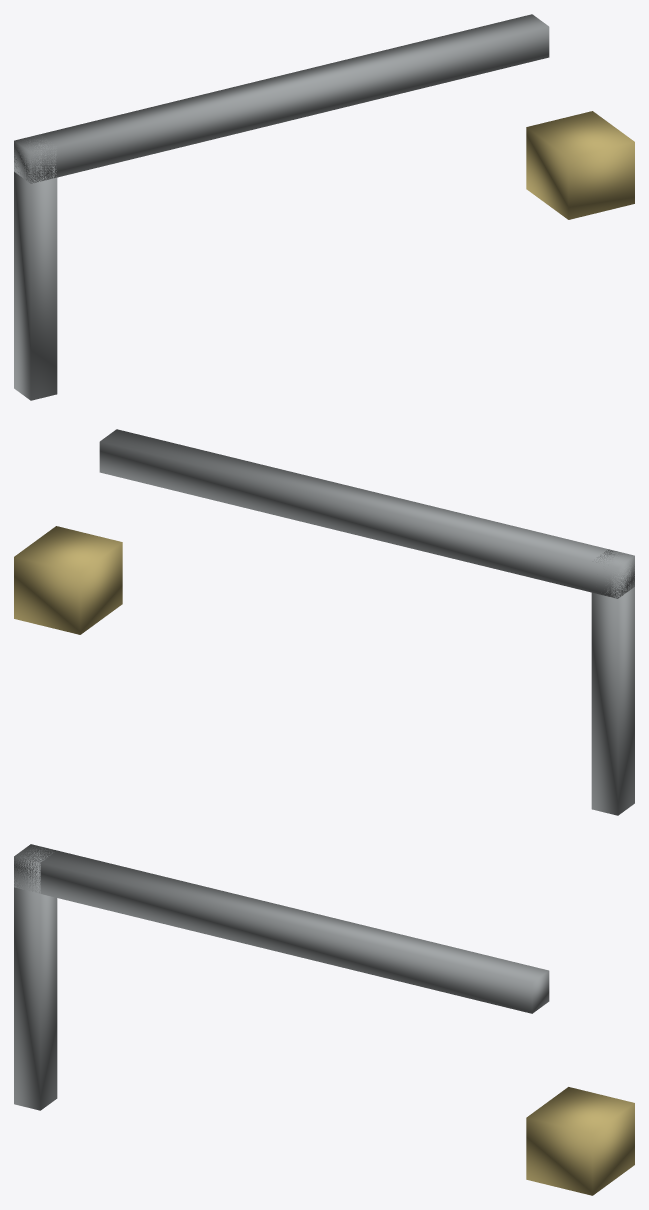
Rendered from grab_bar_05.glb.
The picture shows the model from 3 angles, top to bottom: view 1: azimuth 30°, elevation 25°; view 2: azimuth 150°, elevation 25°; view 3: azimuth 330°, elevation 25°; orthographic projection.
Parts seen in each view (by area): view 1: world; view 2: world; view 3: world.
Part boxes in pixels (bbox=[...]): world: bbox=[14, 14, 634, 400]; world: bbox=[14, 429, 634, 815]; world: bbox=[14, 844, 634, 1195].
Size of the model in its own units: 0.7832 by 0.3136 by 0.097.
